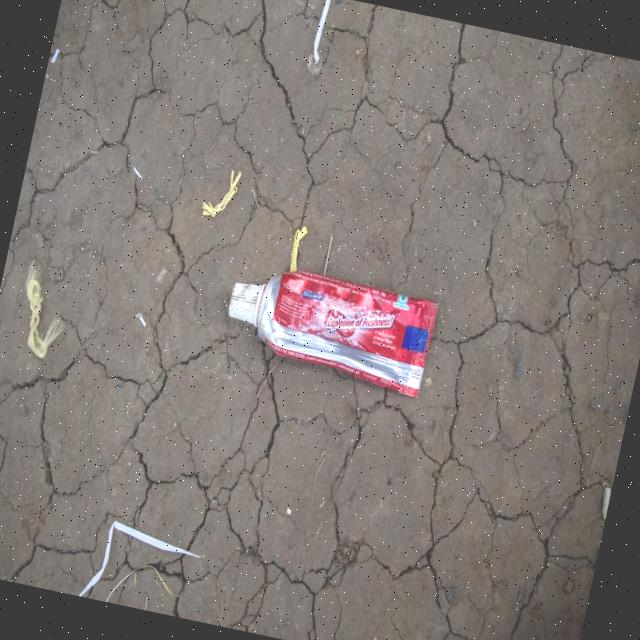Toothpaste: (215, 246, 444, 403)
